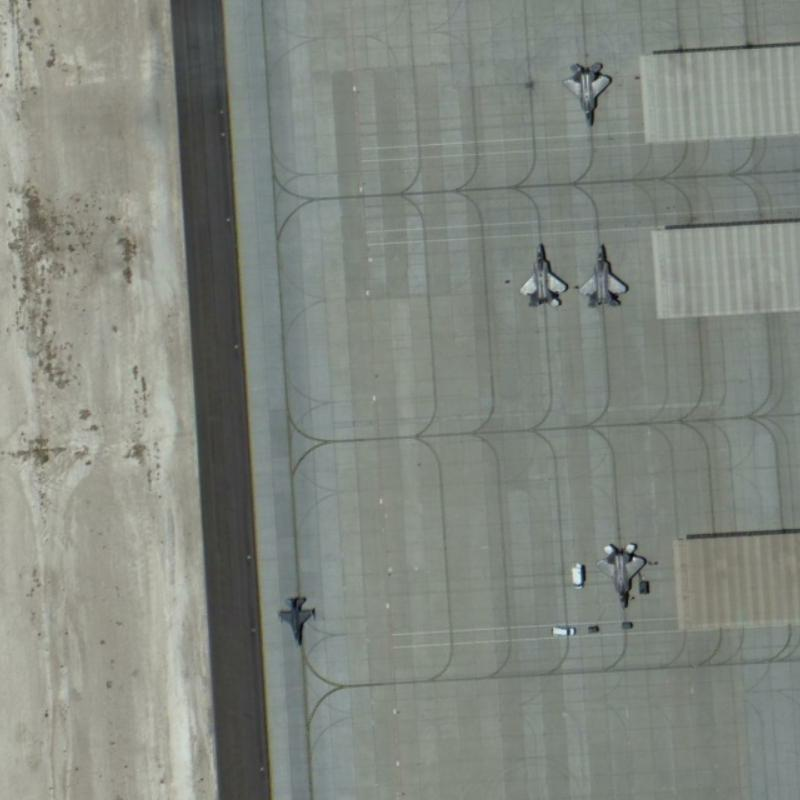A15: (588, 531, 653, 613), (572, 232, 635, 313), (559, 49, 620, 129), (511, 236, 568, 314)
A5: (272, 588, 326, 649)
